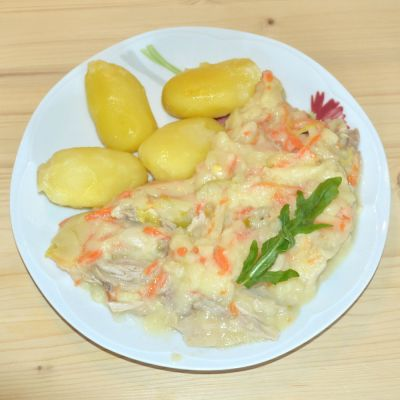boiled potatoes: (88, 59, 158, 154), (164, 59, 263, 120), (33, 148, 149, 200), (141, 115, 228, 181)
